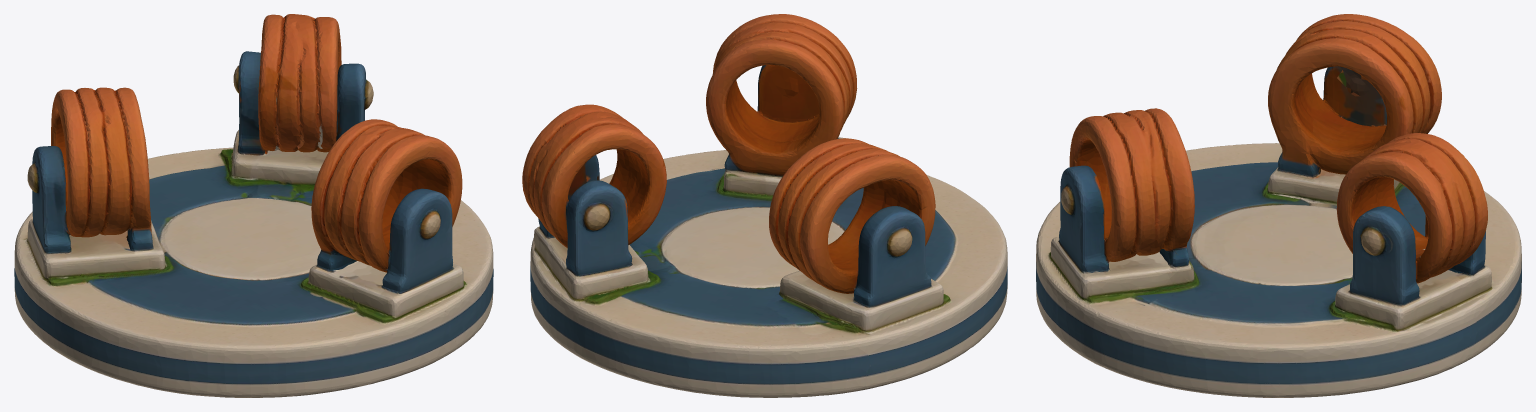
Rendered from ferraris-coils.glb.
3 views of the same model, side by side, from view 1: azimuth 30°, elevation 25°; view 2: azimuth 150°, elevation 25°; view 3: azimuth 270°, elevation 25° (orthographic). The views are drawn at different scales.
Visible parts, largest first — view 1: textured_mesh.obj; view 2: textured_mesh.obj; view 3: textured_mesh.obj.
Boxes of the visible parts, x1,y1,x2,y2 form: textured_mesh.obj: [14, 14, 493, 397]; textured_mesh.obj: [522, 14, 1007, 397]; textured_mesh.obj: [1036, 14, 1521, 397].
Size of the model in its own units: 1.99 by 0.9457 by 1.99.
Materials: 1 (1 with a texture image).
